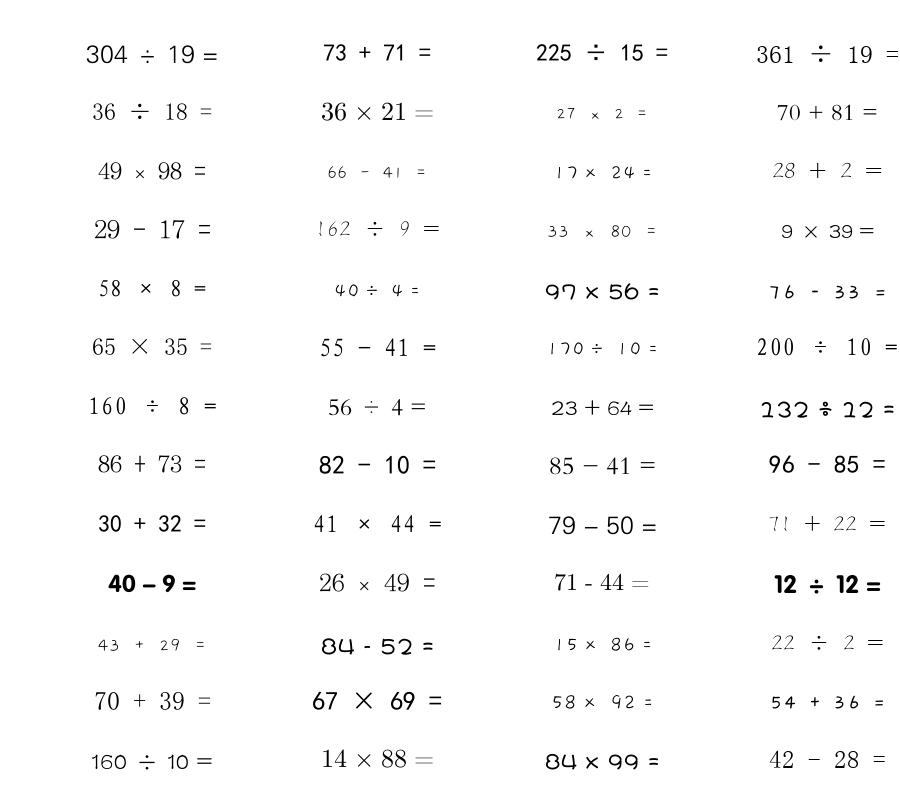MQ: (756, 45, 899, 63), (756, 338, 898, 356), (86, 45, 218, 64), (312, 691, 442, 710), (94, 219, 211, 239), (319, 455, 436, 475), (88, 397, 217, 415), (313, 515, 442, 533), (759, 401, 895, 418), (536, 44, 668, 61), (319, 338, 436, 357), (319, 573, 436, 592), (321, 102, 434, 121), (321, 749, 434, 768), (774, 574, 881, 594), (769, 455, 886, 473), (94, 692, 211, 710), (769, 750, 886, 768), (548, 516, 657, 535), (92, 103, 212, 120), (92, 338, 212, 355), (315, 221, 440, 237), (545, 283, 660, 300), (545, 753, 660, 770), (91, 754, 213, 770), (98, 162, 206, 180), (98, 279, 206, 297), (98, 455, 206, 473), (98, 515, 206, 533), (549, 457, 656, 475), (321, 638, 434, 655), (768, 516, 886, 532), (323, 44, 431, 61), (772, 162, 883, 178), (551, 399, 654, 416), (554, 573, 650, 591), (777, 104, 878, 121), (771, 635, 884, 650), (328, 399, 427, 416), (108, 574, 196, 593), (768, 285, 887, 299), (769, 695, 886, 709), (551, 694, 653, 710), (546, 342, 658, 356), (98, 638, 207, 652), (553, 637, 652, 652), (547, 225, 658, 238), (553, 166, 652, 180), (781, 224, 874, 238), (327, 166, 427, 179), (334, 284, 420, 298), (556, 108, 648, 120)
